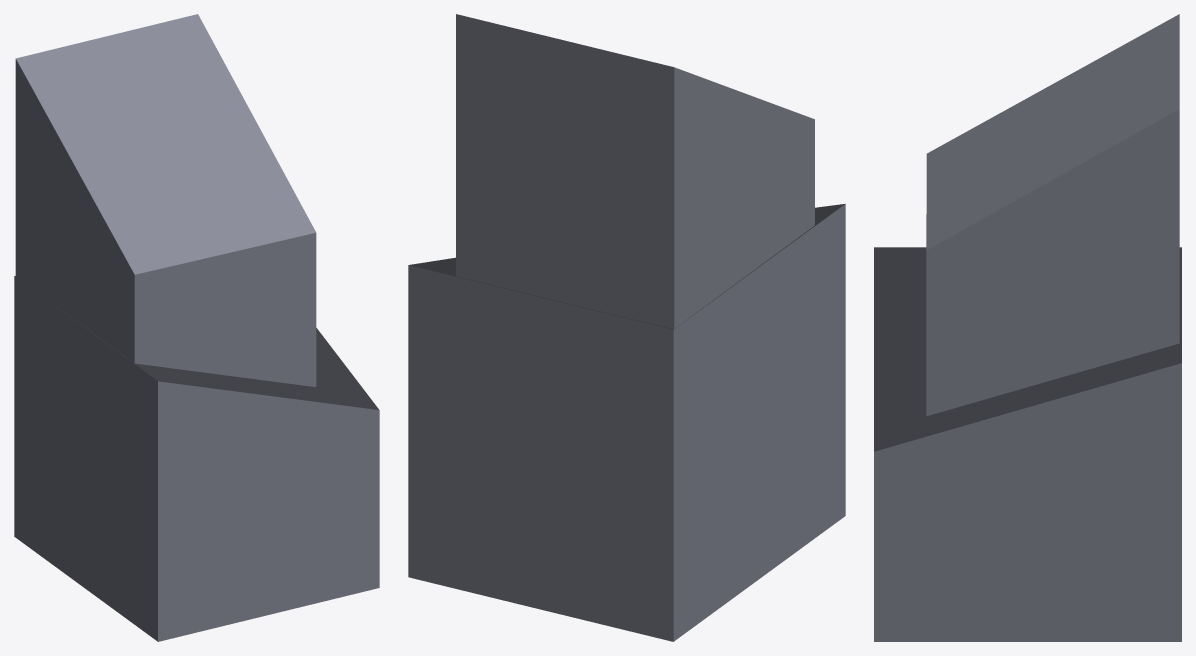
File: BackRight.fbx
3 views of the same model, side by side, from view 1: azimuth 30°, elevation 25°; view 2: azimuth 150°, elevation 25°; view 3: azimuth 270°, elevation 25° (orthographic). The views are drawn at different scales.
Parts seen in each view (by area): view 1: BackLeft; view 2: BackLeft; view 3: BackLeft.
Boxes of the visible parts, bbox=[...] form: BackLeft: bbox=[14, 14, 379, 641]; BackLeft: bbox=[408, 14, 845, 641]; BackLeft: bbox=[874, 14, 1181, 641].
Size of the model in its own units: 178 by 368 by 200.
